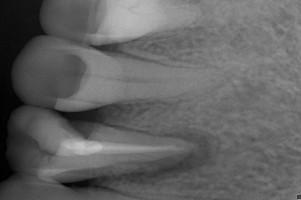Furcation Involvement: (112, 128, 217, 184)
